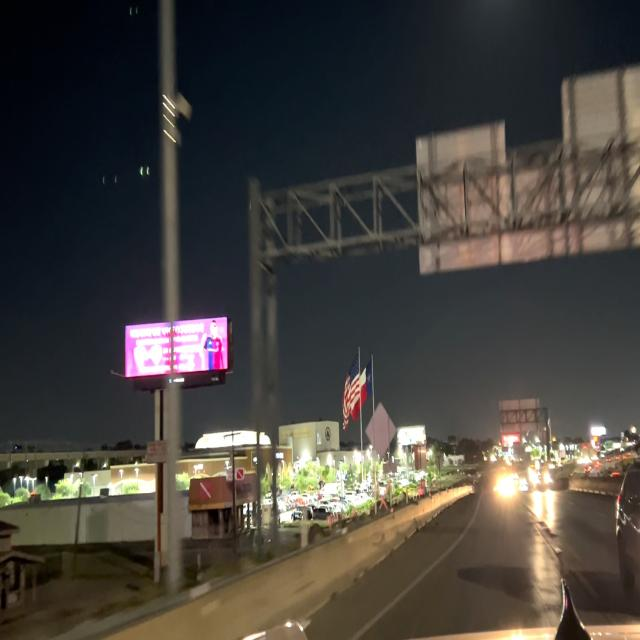back-of-sign: (411, 63, 640, 281), (365, 400, 398, 460), (497, 391, 539, 437)
